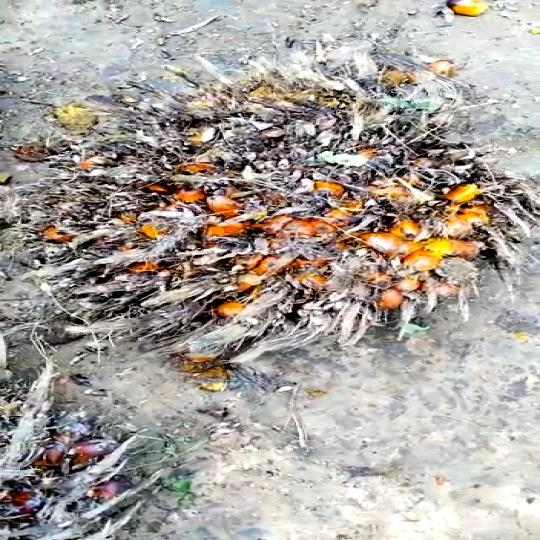terlalu masak: (10, 48, 540, 381)
